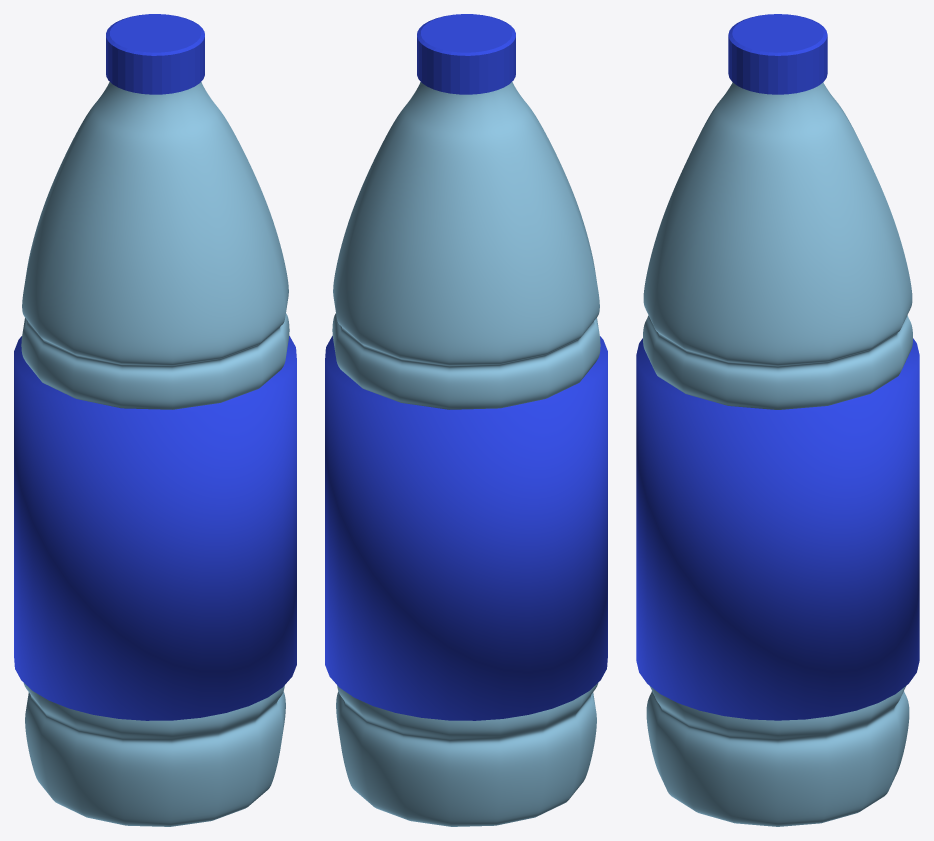
File: bottle.fbx
3 views of the same model, side by side, from view 1: azimuth 30°, elevation 25°; view 2: azimuth 150°, elevation 25°; view 3: azimuth 270°, elevation 25° (orthographic).
Visible parts, largest first — view 1: bottle; view 2: bottle; view 3: bottle.
Part boxes in pixels (x1,y1,x2,y2): bottle: (14, 14, 296, 826); bottle: (325, 14, 607, 826); bottle: (636, 14, 919, 826).
Bounding box in the file's own units: 164 × 480 × 164.
